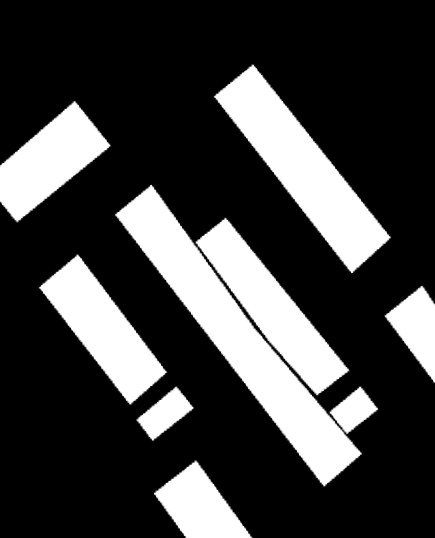parkingspot: (115, 185, 378, 486), (214, 65, 391, 273), (196, 218, 349, 395), (39, 255, 167, 405), (0, 101, 110, 222), (154, 461, 252, 538), (385, 286, 435, 383), (137, 387, 193, 441), (341, 429, 345, 433)
